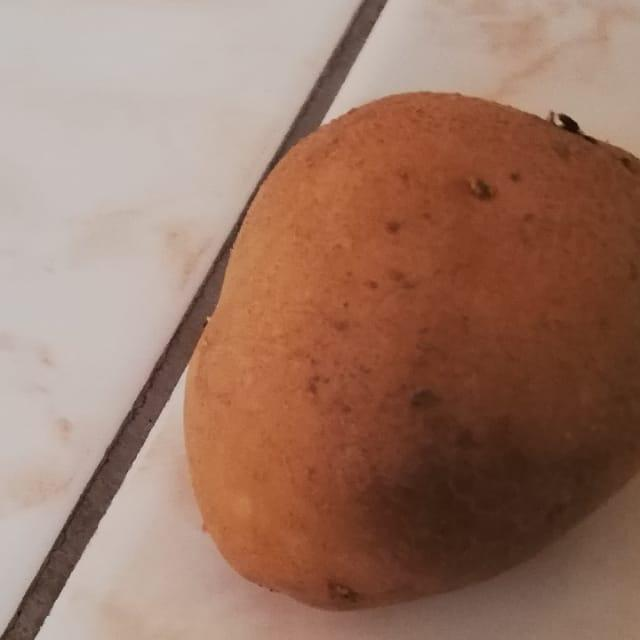potato: (155, 42, 640, 619)
